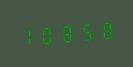eight: (56, 20, 74, 46), (94, 17, 112, 42)
five: (75, 19, 93, 44)
one: (18, 24, 36, 49)
zero: (37, 22, 55, 47)
